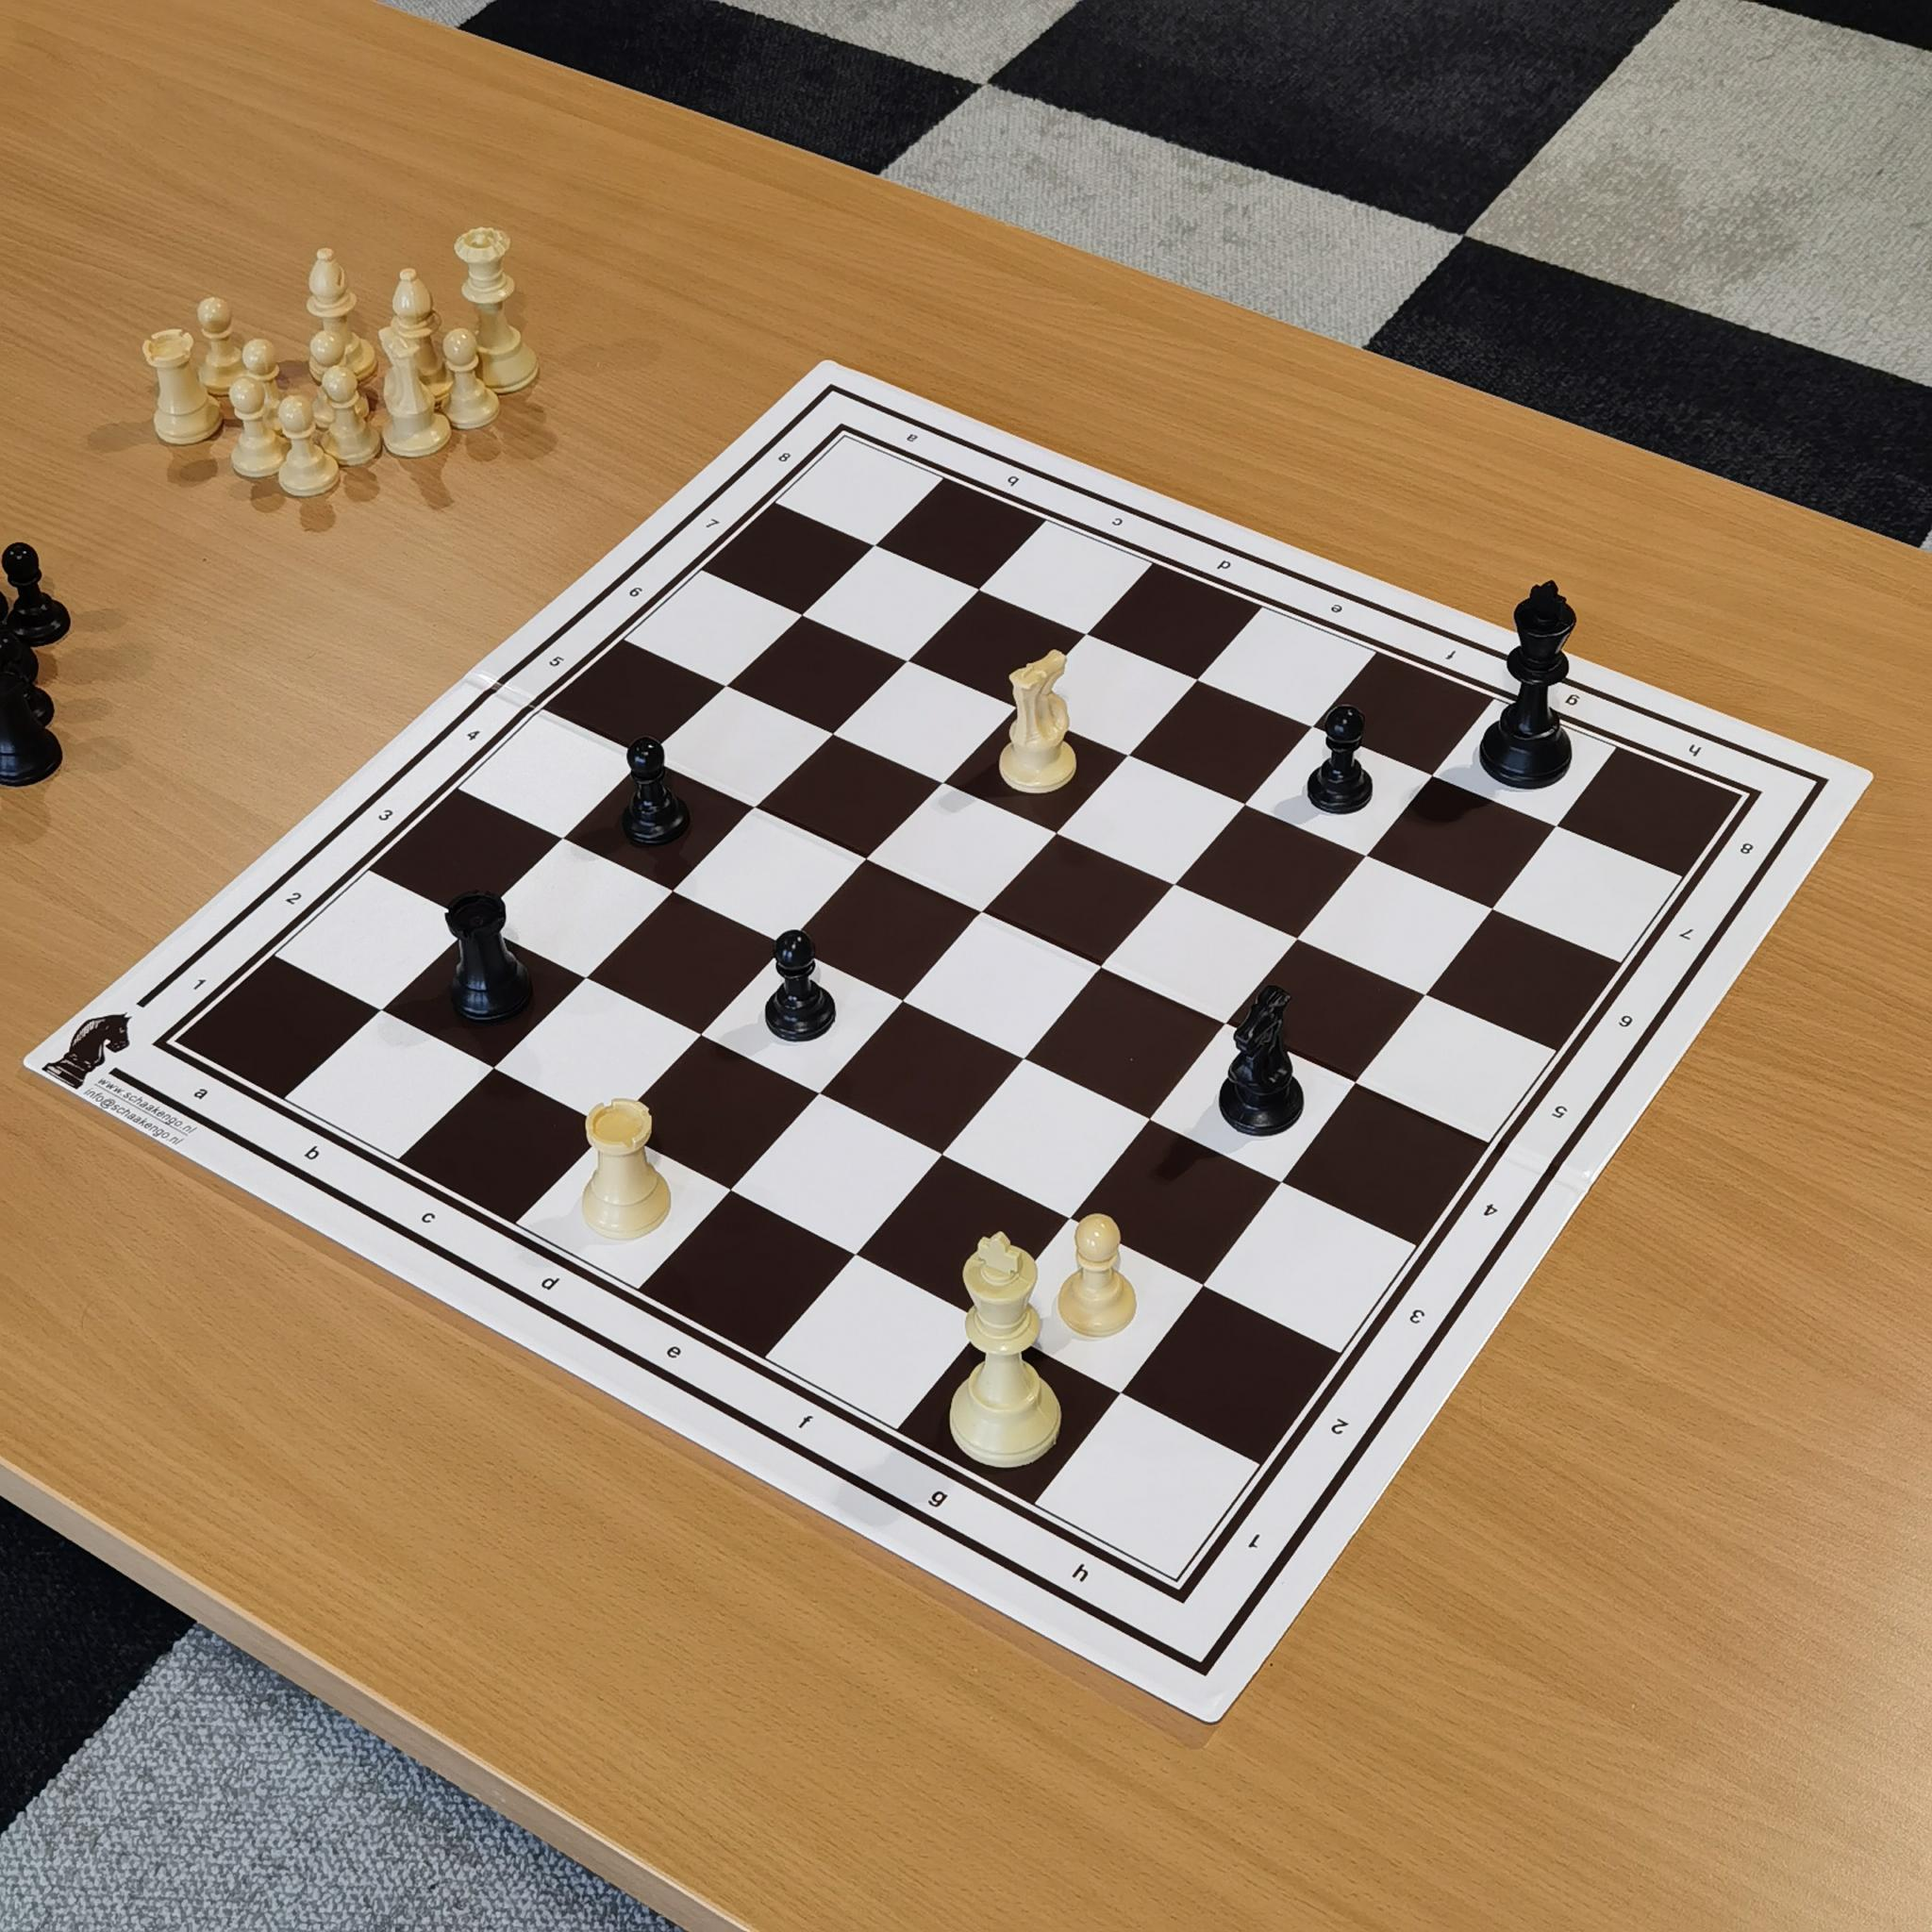corners: (1155, 1563, 1214, 1621), (1714, 779, 1777, 824), (139, 1024, 197, 1071), (819, 418, 874, 463)
eight: (1724, 825, 1773, 863), (769, 441, 800, 476)
one: (1235, 1511, 1285, 1567), (178, 963, 220, 1006)
